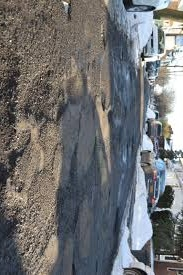pothole: (0, 45, 18, 184), (18, 66, 52, 119), (94, 95, 117, 172), (75, 105, 94, 180), (60, 110, 81, 169), (64, 53, 83, 111), (77, 201, 92, 257), (52, 88, 67, 122), (43, 237, 60, 265), (18, 126, 31, 151), (59, 0, 74, 19), (97, 17, 106, 48)
